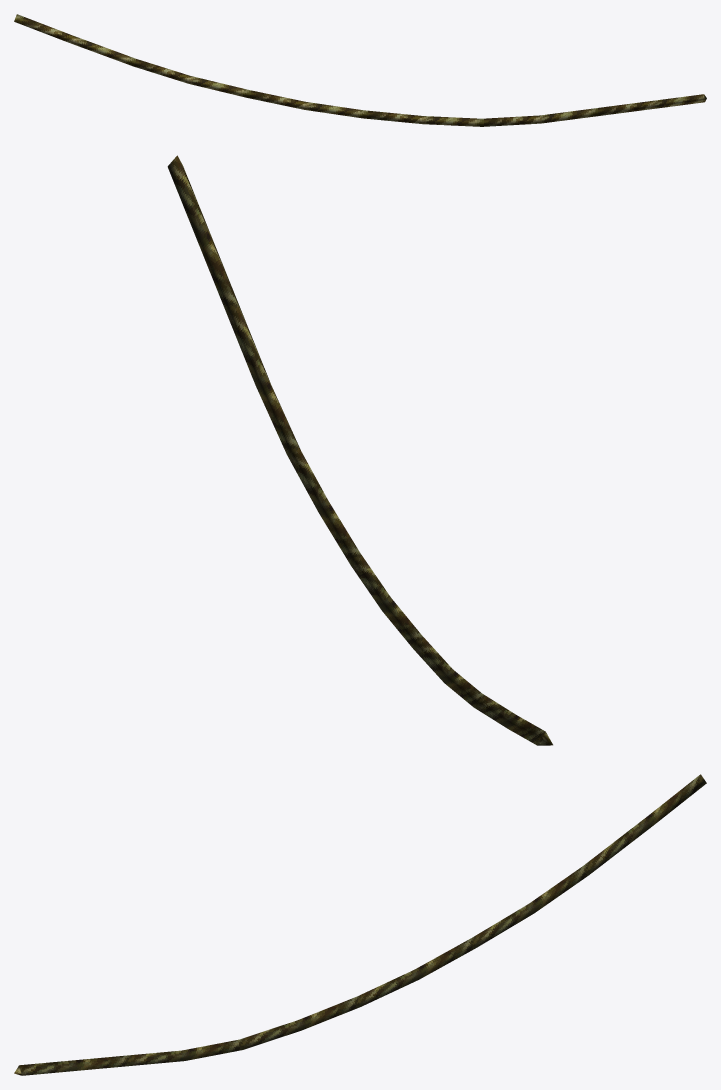
Rendered from OVERHILL_A_01_ROPE_05.fbx.
3 views of the same model, one above another, from view 1: azimuth 30°, elevation 25°; view 2: azimuth 150°, elevation 25°; view 3: azimuth 270°, elevation 25° (orthographic). The views are drawn at different scales.
Visible parts, largest first — view 1: OVERHILL_A_01_ROPE_05; view 2: OVERHILL_A_01_ROPE_05; view 3: OVERHILL_A_01_ROPE_05.
Boxes of the visible parts, x1,y1,x2,y2 form: OVERHILL_A_01_ROPE_05: (14, 14, 706, 126); OVERHILL_A_01_ROPE_05: (167, 155, 552, 745); OVERHILL_A_01_ROPE_05: (14, 774, 706, 1075).
Size of the model in its own units: 30257 by 4156 by 30256.
Materials: 1 (1 with a texture image).
